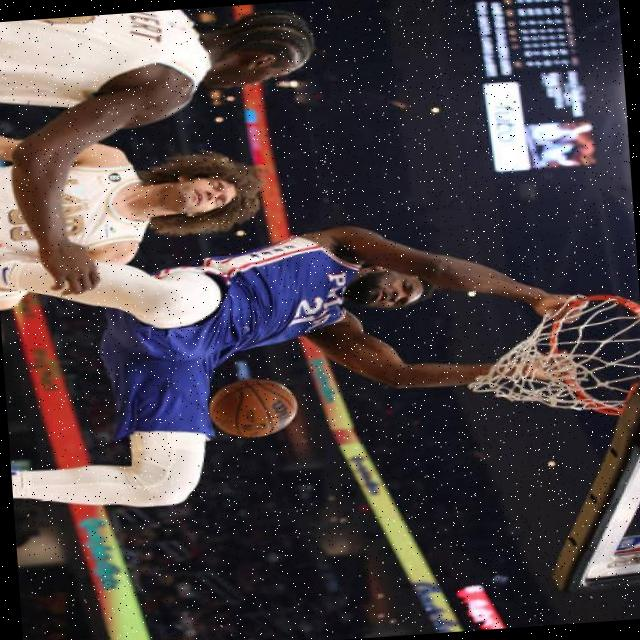ball: (205, 374, 300, 443)
hoop: (548, 289, 640, 420)
